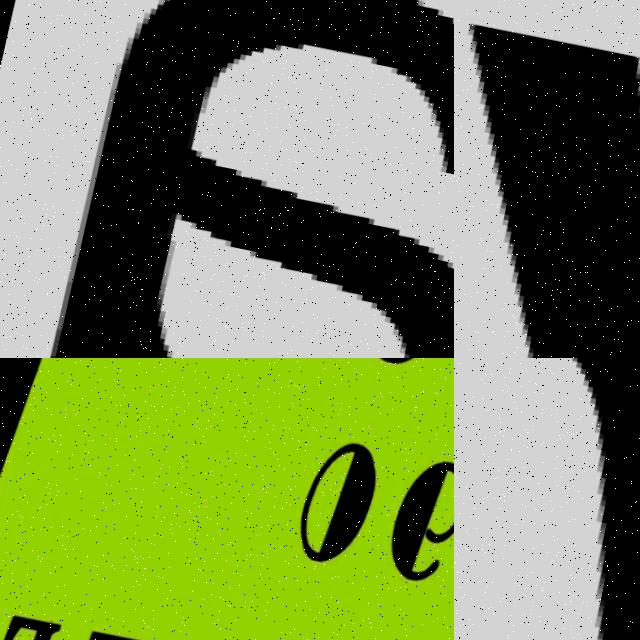0: (274, 389, 414, 591)
9: (368, 423, 454, 607)
A: (0, 0, 454, 358)
N: (454, 358, 640, 640)
V: (454, 0, 640, 358)
